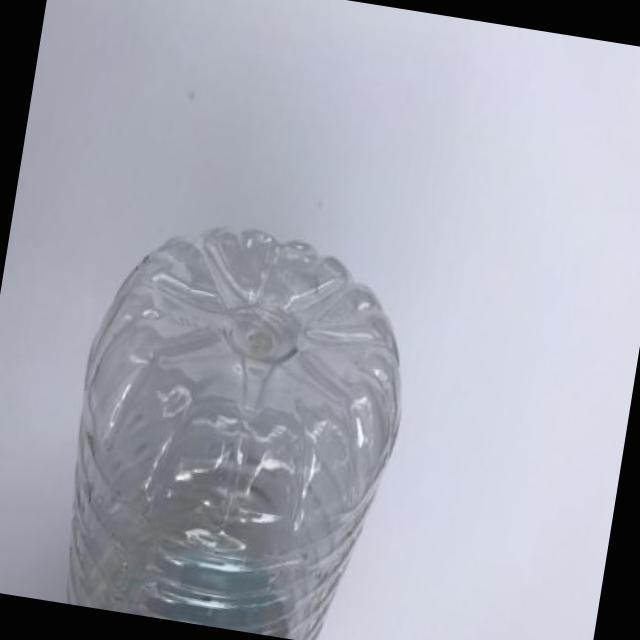bottle: (67, 228, 399, 639)
